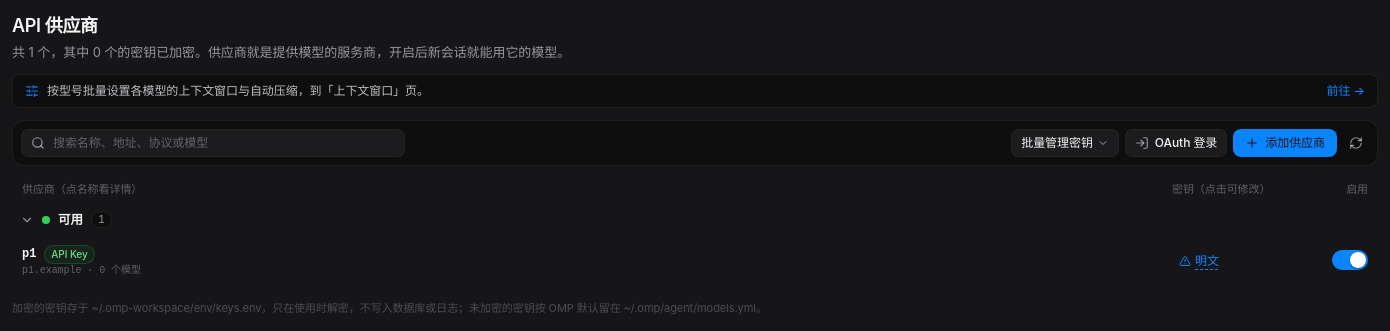
Scenario: key column › encrypts a plaintext key immediately, without confirmation
Check: the text "供应商（点名称看详情）" is shown, box [22,182,142,196]
Click the button "明文". click: [1199, 261]
box: [1172,250,1226,272]
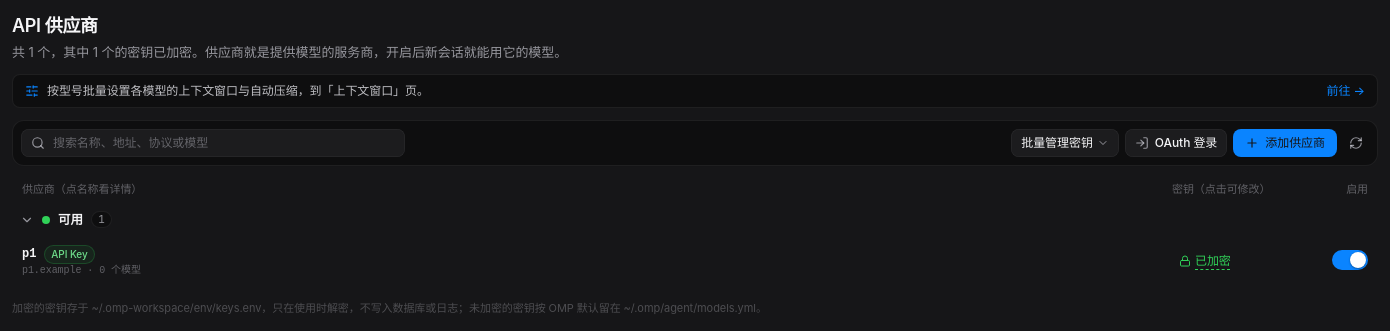
Check: the text "已加密" is shown, box [1195,253,1231,269]
